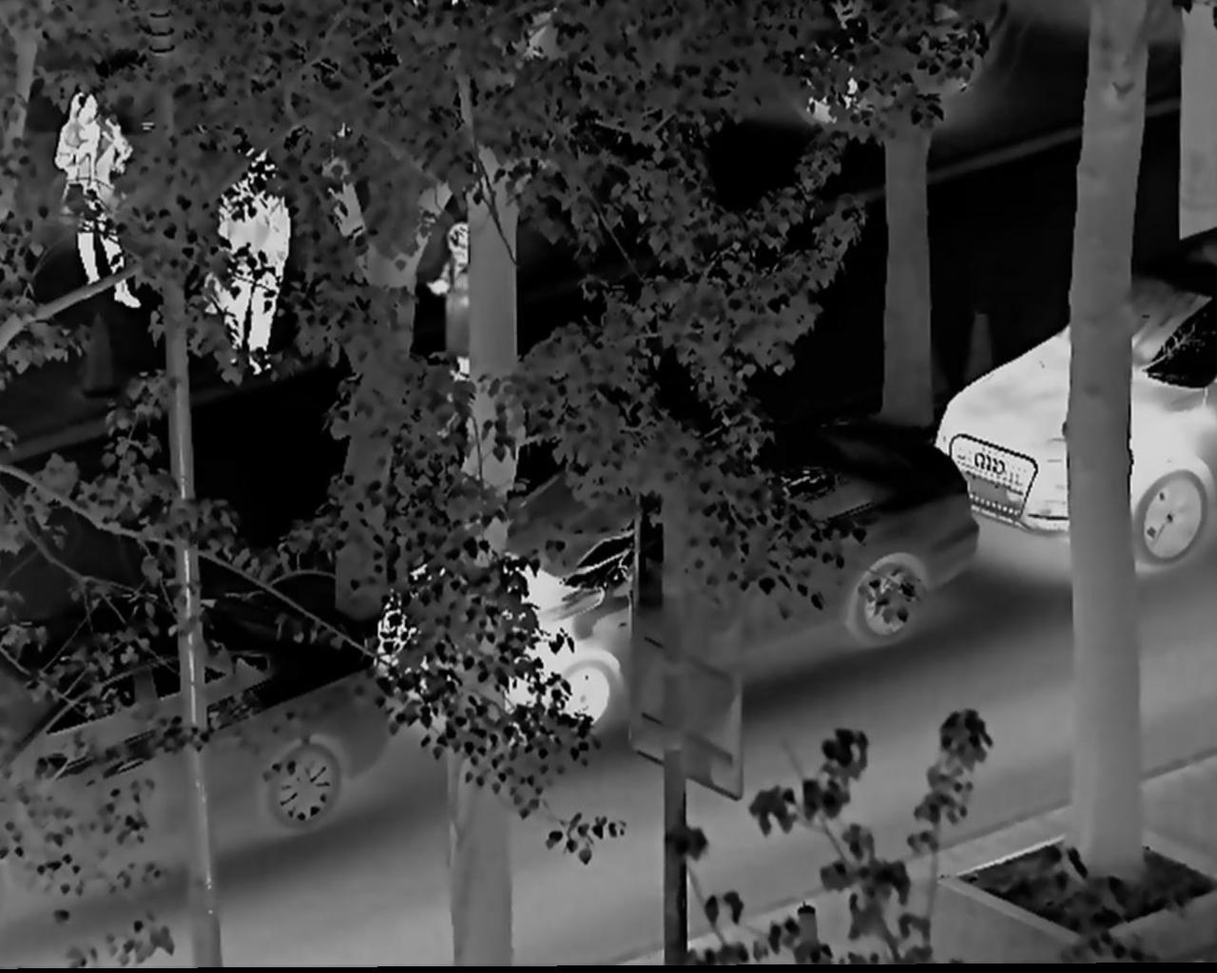person: (48, 76, 147, 315), (202, 125, 281, 383), (416, 203, 473, 374)
